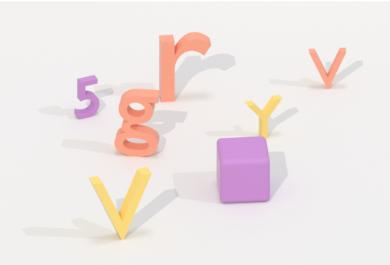5: (72, 71, 103, 123)
V: (85, 162, 158, 247), (305, 41, 352, 94)
Y: (241, 88, 287, 139)
g: (113, 85, 164, 160)
r: (211, 133, 275, 207), (155, 28, 214, 106)
